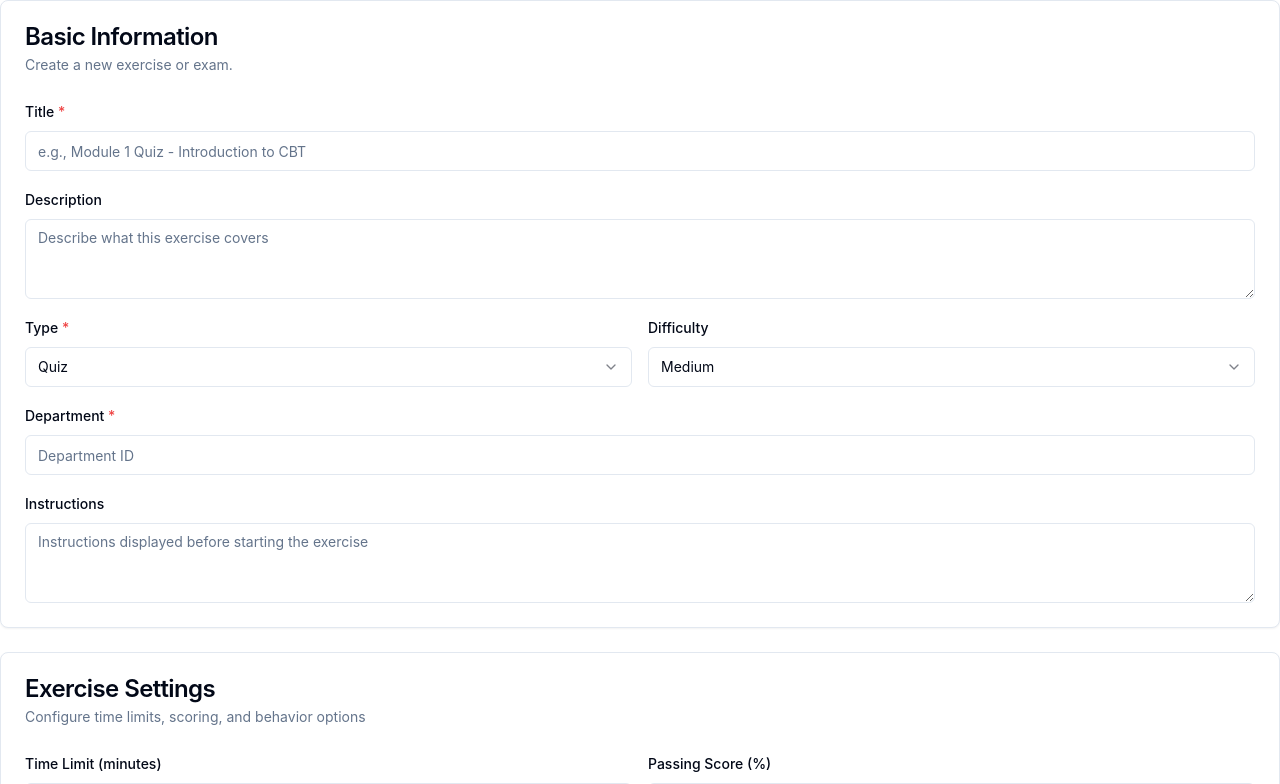
Test: ExerciseForm › Exercise Type Selection › should allow selecting exam type
The image size is (1280, 784).
Click the dropdown named "Type": [53, 366] box [25,347,632,387]
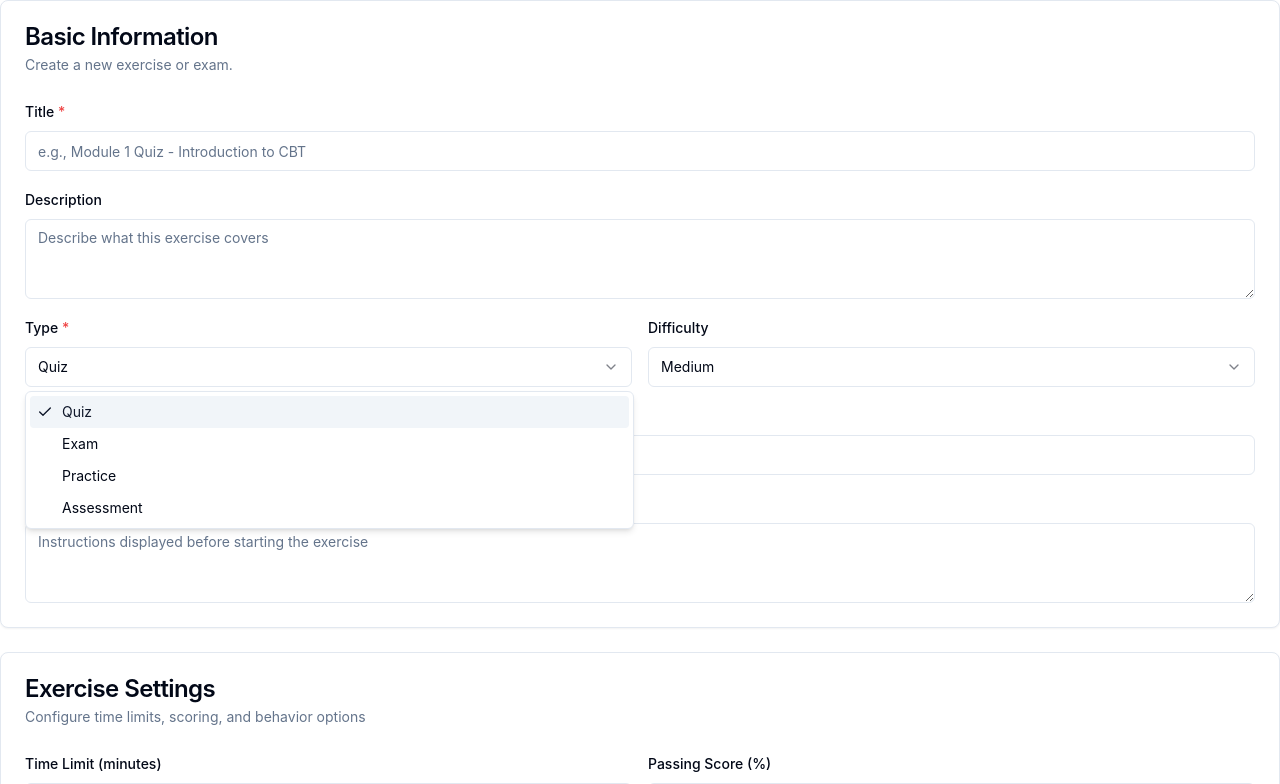
Click the option "Exam": [80, 444] box [62,435,98,452]
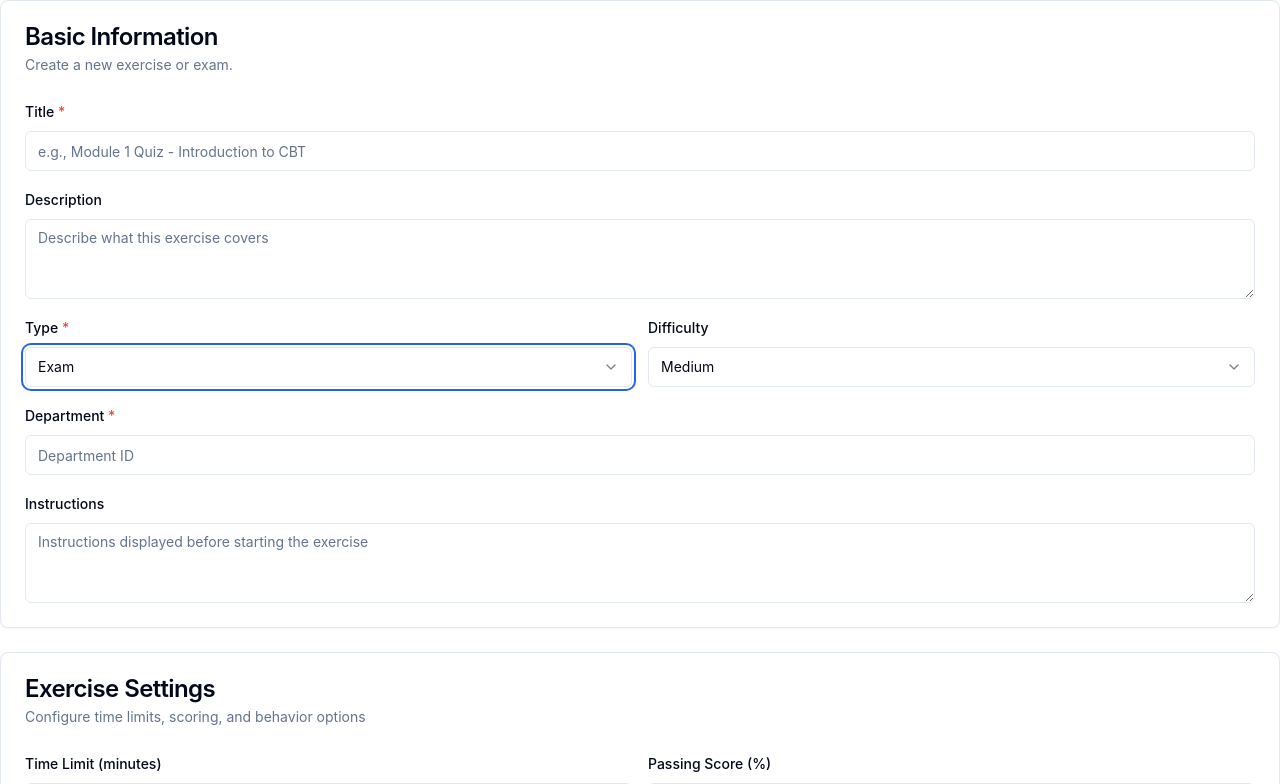
Now the dropdown named "Type" reads "Exam", box [25,347,632,387]
